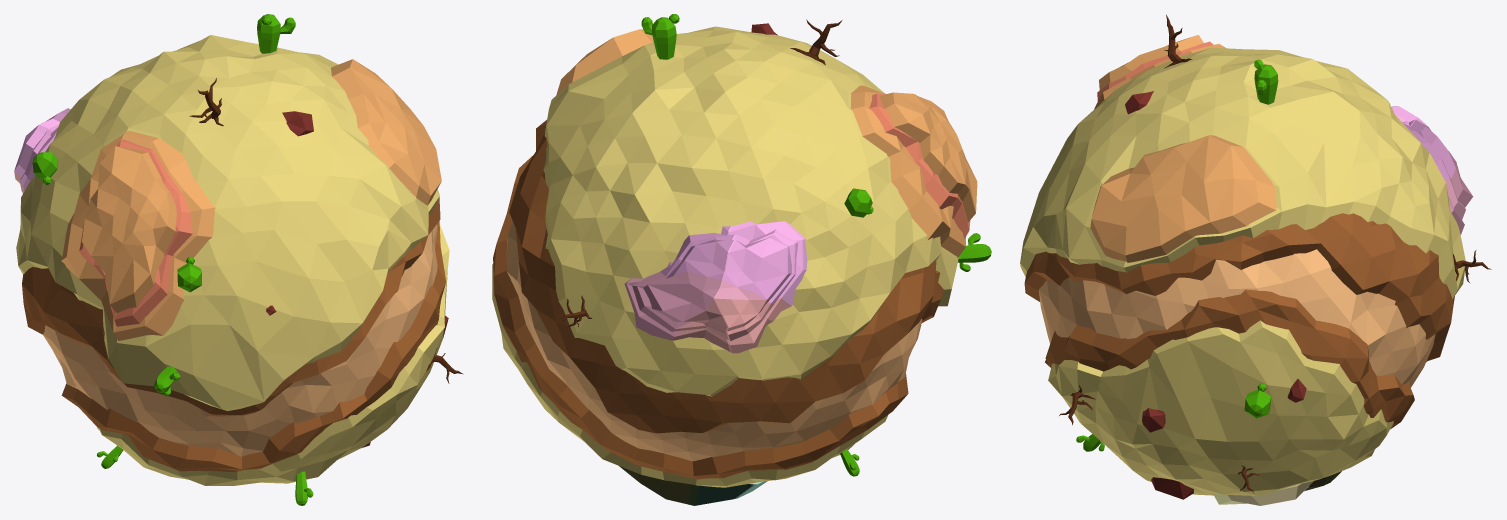
The model's file is desert_planet.glb.
3 renders of one model, left to right at view 1: azimuth 30°, elevation 25°; view 2: azimuth 150°, elevation 25°; view 3: azimuth 270°, elevation 25°, orthographic. The views are drawn at different scales.
Parts seen in each view (by area): view 1: DESSERT_BASE_3, DESSERT_STONES, DESSERT_BASE_2, DESSERT_BASE_1, CATUS, Desert_Tree, ROCKS; view 2: DESSERT_BASE_3, DESSERT_BASE_2, DESSERT_STONES, DESSERT_BASE_1, CATUS, Desert_Tree; view 3: DESSERT_BASE_3, DESSERT_BASE_2, DESSERT_STONES, DESSERT_BASE_1, CATUS, ROCKS, Desert_Tree.
Boxes of the visible parts, x1,y1,x2,y2 form: DESSERT_BASE_3: [16, 35, 449, 485]; DESSERT_STONES: [14, 59, 441, 340]; DESSERT_BASE_2: [22, 197, 446, 471]; DESSERT_BASE_1: [43, 224, 437, 456]; CATUS: [32, 14, 313, 505]; Desert_Tree: [189, 78, 463, 383]; ROCKS: [266, 111, 448, 447]; DESSERT_BASE_3: [492, 26, 958, 487]; DESSERT_BASE_2: [493, 120, 944, 479]; DESSERT_STONES: [556, 29, 977, 505]; DESSERT_BASE_1: [506, 220, 922, 461]; CATUS: [641, 14, 991, 476]; Desert_Tree: [558, 19, 842, 328]; DESSERT_BASE_3: [1020, 47, 1465, 495]; DESSERT_BASE_2: [1024, 213, 1454, 429]; DESSERT_STONES: [1090, 35, 1473, 505]; DESSERT_BASE_1: [1038, 249, 1435, 387]; CATUS: [1076, 59, 1278, 451]; ROCKS: [1125, 91, 1306, 499]; Desert_Tree: [1059, 14, 1491, 492].
Size of the model in its own units: 2.19 by 2.34 by 2.26.
1 material, 1 textured.
